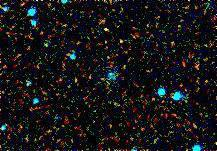star: (108, 23, 138, 53)
